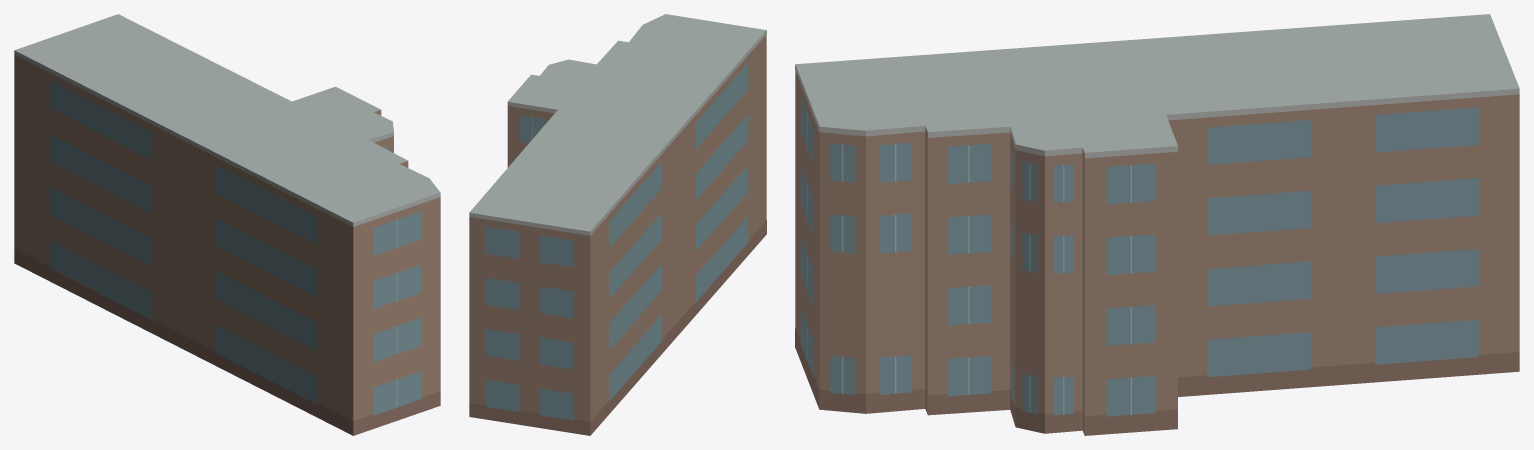
The model's file is survey-upis-32575643.glb.
3 views of the same model, side by side, from view 1: azimuth 30°, elevation 25°; view 2: azimuth 150°, elevation 25°; view 3: azimuth 270°, elevation 25° (orthographic). The views are drawn at different scales.
Parts seen in each view (by area): view 1: survey-upis-32575643.tmp; view 2: survey-upis-32575643.tmp; view 3: survey-upis-32575643.tmp.
Boxes of the visible parts, x1,y1,x2,y2 form: survey-upis-32575643.tmp: (14,14,440,435); survey-upis-32575643.tmp: (469,14,766,435); survey-upis-32575643.tmp: (795,14,1519,435).
Bounding box in the file's own units: 12.85 × 12.2 × 28.32.
